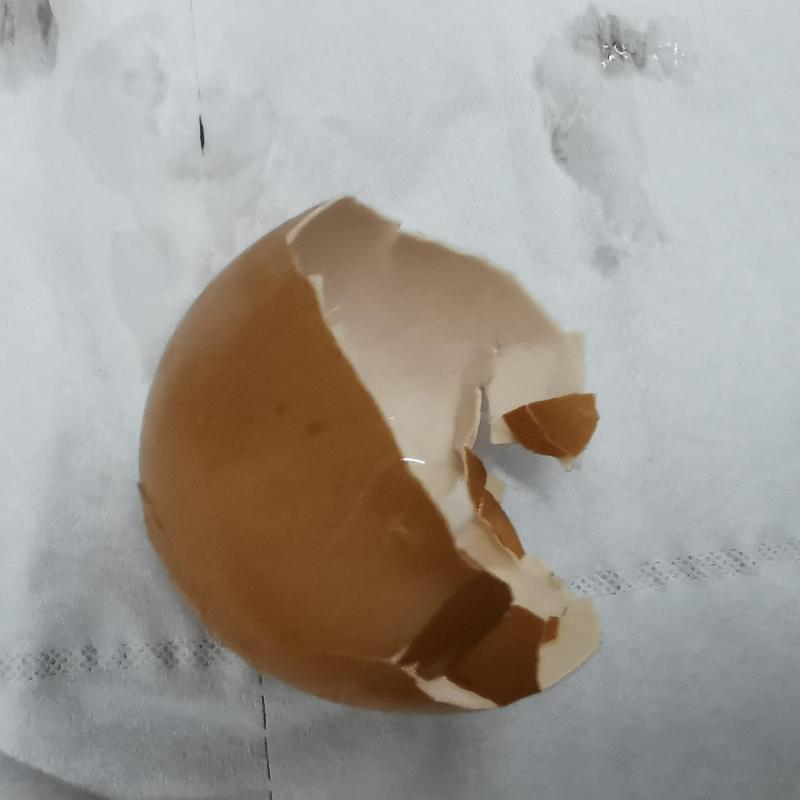eggshell: (127, 198, 608, 703)
